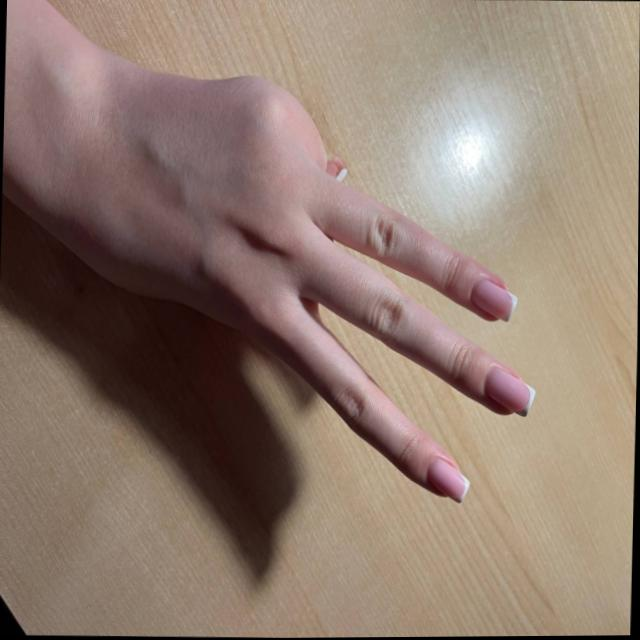m: (168, 90, 546, 529)
